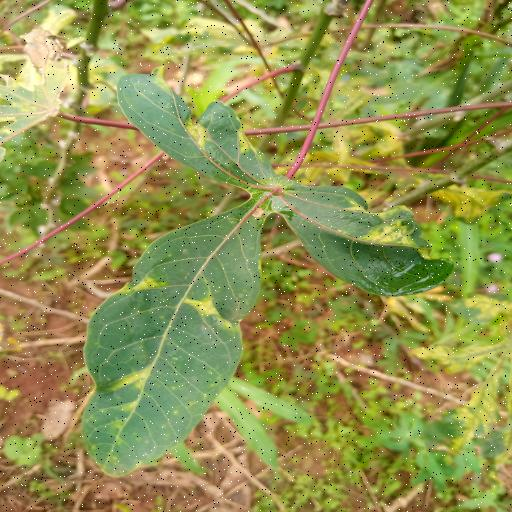Cassava_Mosaic: (76, 70, 456, 484)
